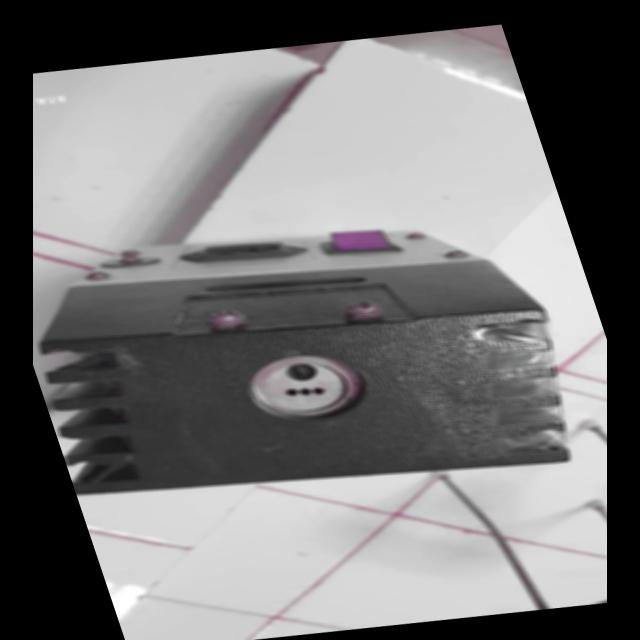Melting Point Apparatus: (33, 204, 590, 499)
